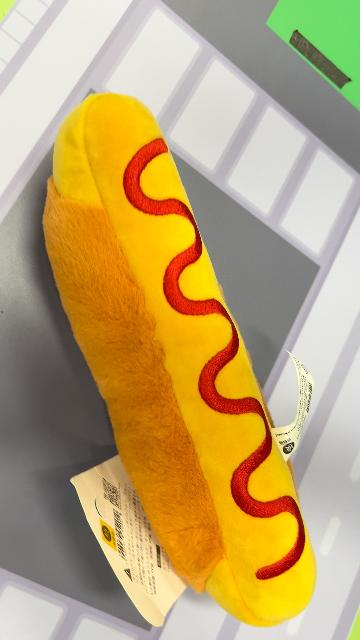hotdog: (41, 91, 318, 629)
